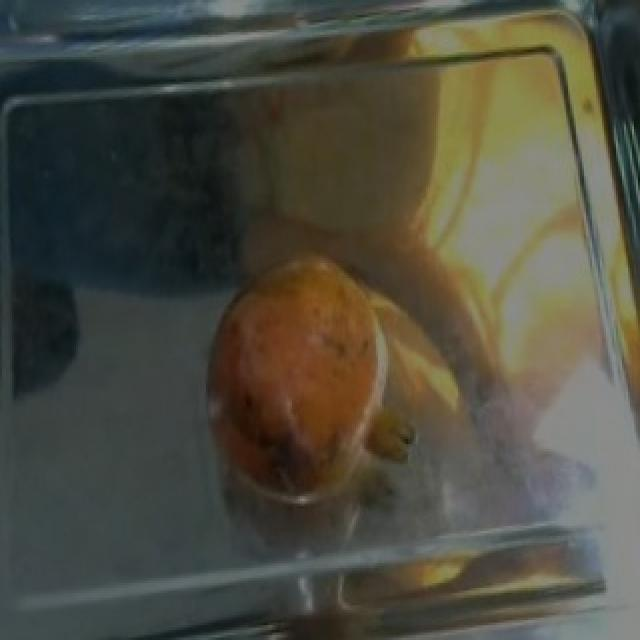fruit: (190, 233, 408, 499)
